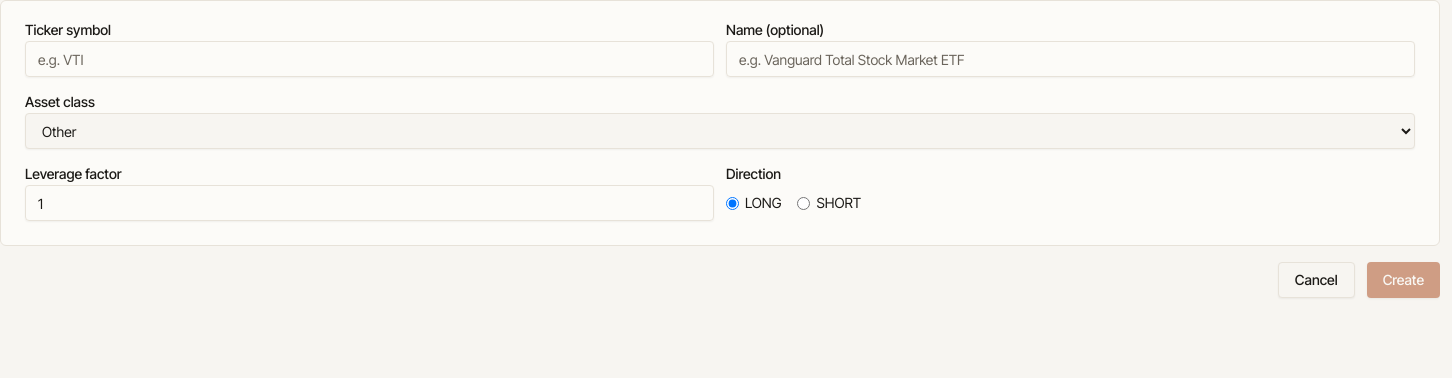
Test: TickerForm (extracted, W14) › a rejected save lands in the summary, not an unhandled rejection
Type "VTI" into the field labelled "Ticker symbol".
click(370, 59); type("VTI")  # box [25, 41, 714, 77]
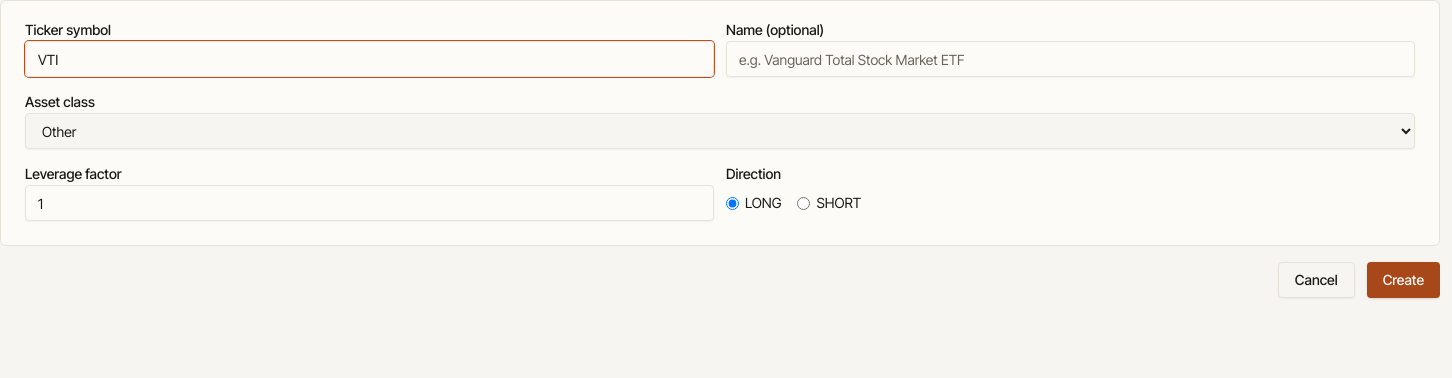
Click the button "Create".
click(1403, 280)  # box [1367, 262, 1440, 298]
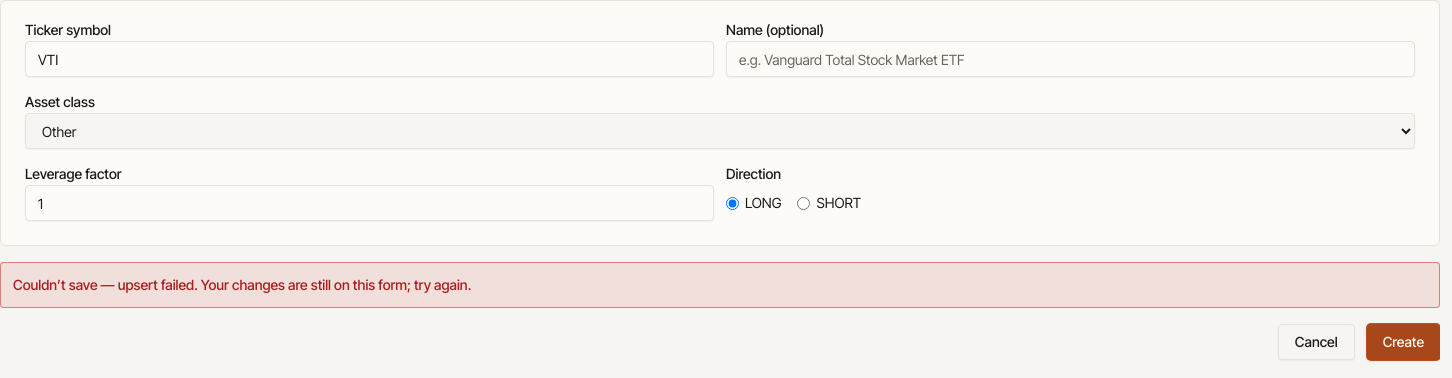
Expected: the message shows "upsert failed", [118, 276, 194, 293]
